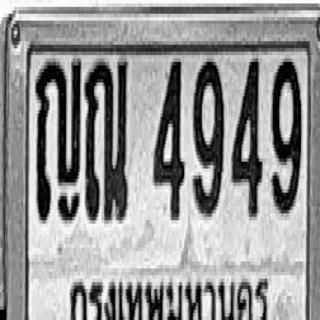A13: (34, 55, 81, 213)
A19: (84, 57, 128, 222)
N04: (152, 57, 184, 219), (231, 55, 262, 217)
N09: (271, 59, 302, 213), (193, 57, 223, 215)
P04: (66, 272, 270, 320)
